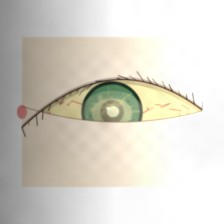corneal_ulcer: (79, 86, 145, 139)
